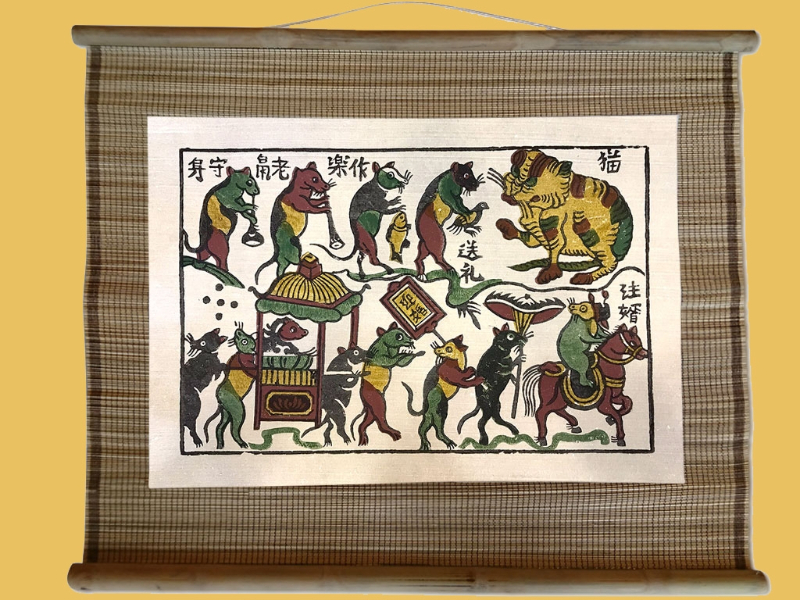chuot_chu_re: (523, 294, 648, 445)
chuot_co_dau: (250, 254, 369, 428)
chuot_khenh_kieu: (321, 325, 423, 445), (180, 328, 256, 448)
chuot_mang_le_vat: (331, 163, 410, 275), (415, 162, 488, 279)
chuot_nguoi_hau: (408, 293, 564, 450), (381, 277, 443, 336)
chuot_nhac_cong: (256, 161, 343, 282), (184, 167, 262, 271)
ho_uy_nghi: (490, 149, 633, 284)
